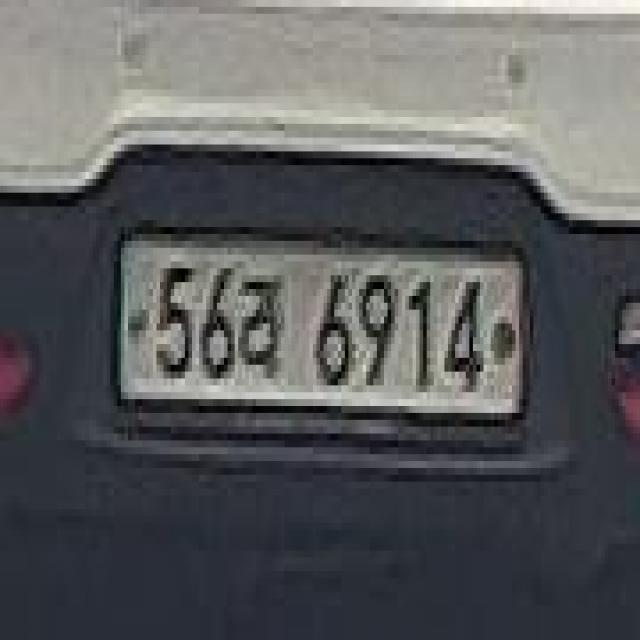illegal_plate: (108, 217, 534, 457)
